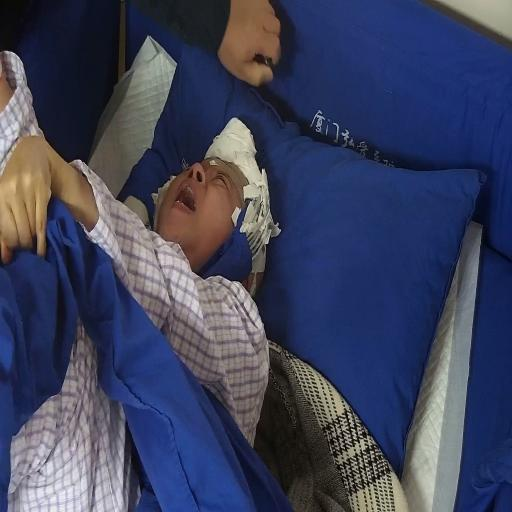Seizure: (155, 131, 256, 279)
